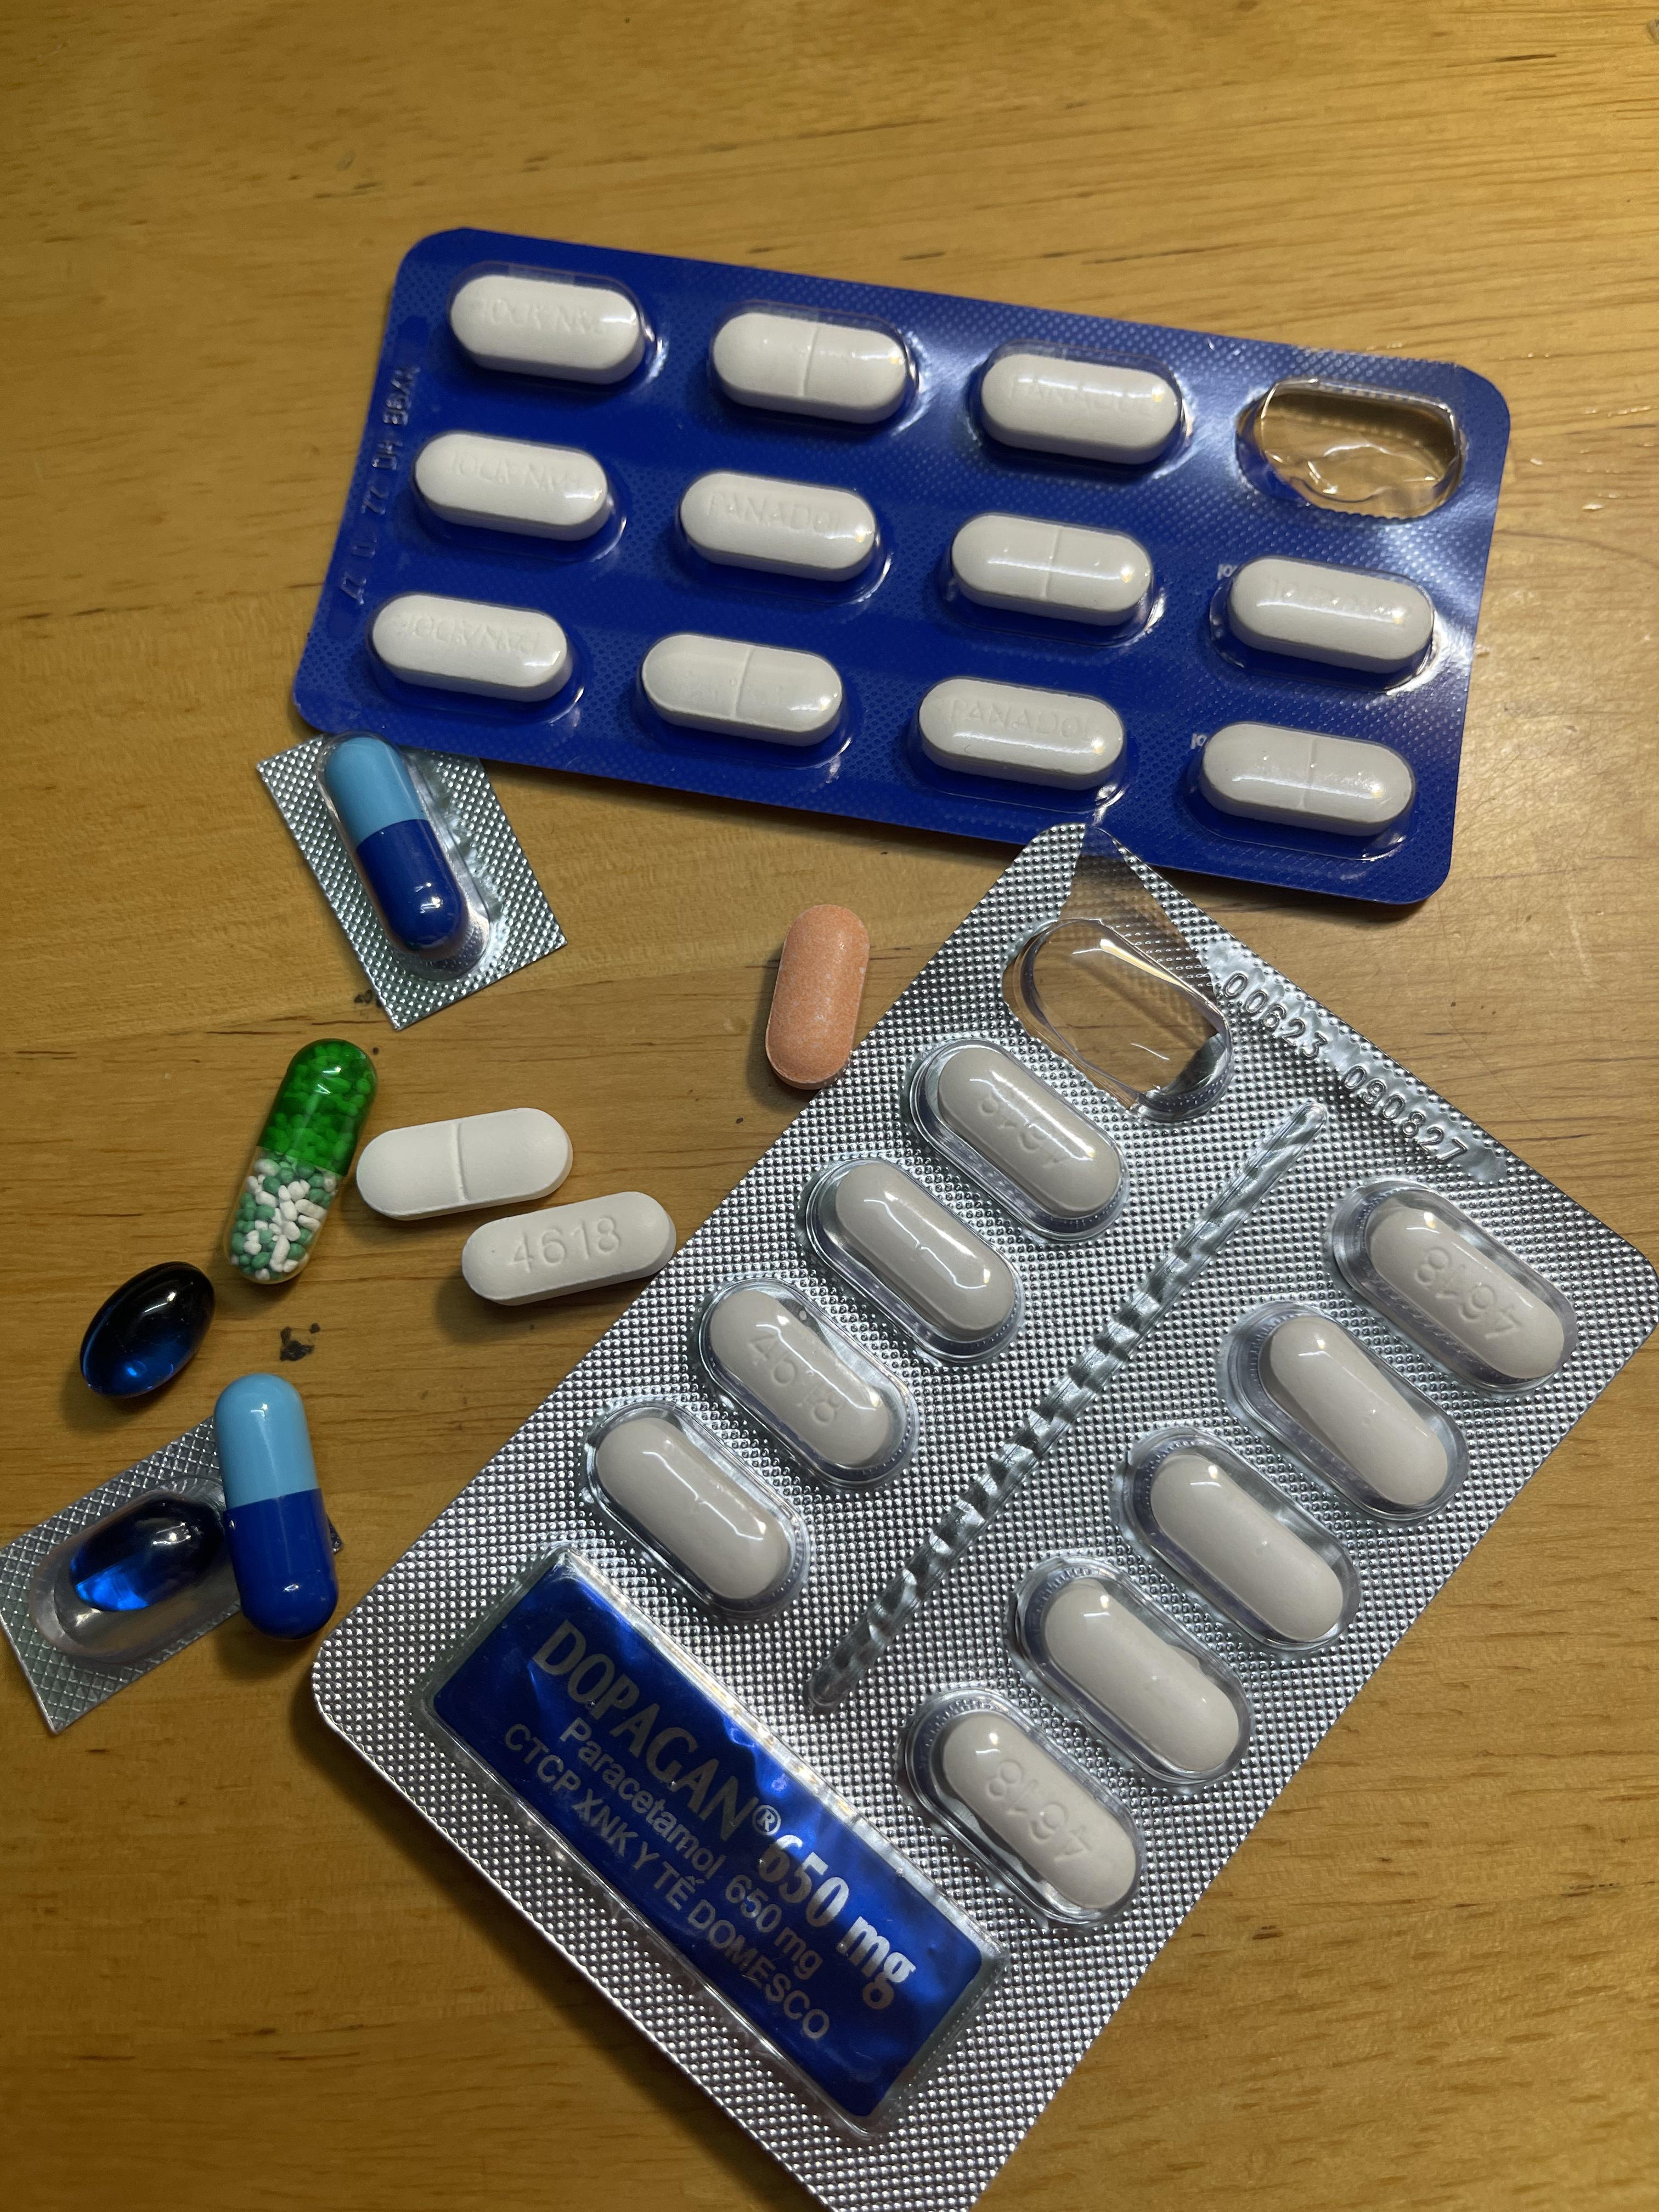Lincomyxin_500mg: (85, 1263, 214, 1400), (73, 1510, 218, 1615)
Loratadine_10mg: (763, 907, 875, 1087)
Paracetamol_350mg: (1223, 554, 1438, 674), (354, 1106, 570, 1223), (1197, 723, 1415, 836), (713, 307, 917, 423), (978, 347, 1180, 462), (917, 676, 1124, 787), (645, 634, 849, 747), (448, 268, 648, 383), (678, 470, 880, 583), (948, 514, 1148, 627), (416, 430, 615, 540), (373, 592, 570, 702)
Paracetamol_500mg: (1023, 1564, 1248, 1778), (706, 1282, 915, 1491), (931, 1707, 1134, 1919), (591, 1404, 795, 1615), (1147, 1446, 1344, 1653), (1256, 1312, 1455, 1515), (1356, 1197, 1567, 1379), (826, 1165, 1018, 1346), (934, 1054, 1126, 1219), (464, 1197, 671, 1305)
Paracetamol_650mg: (223, 1043, 375, 1282)
pill: (322, 735, 476, 961), (216, 1379, 333, 1634)
